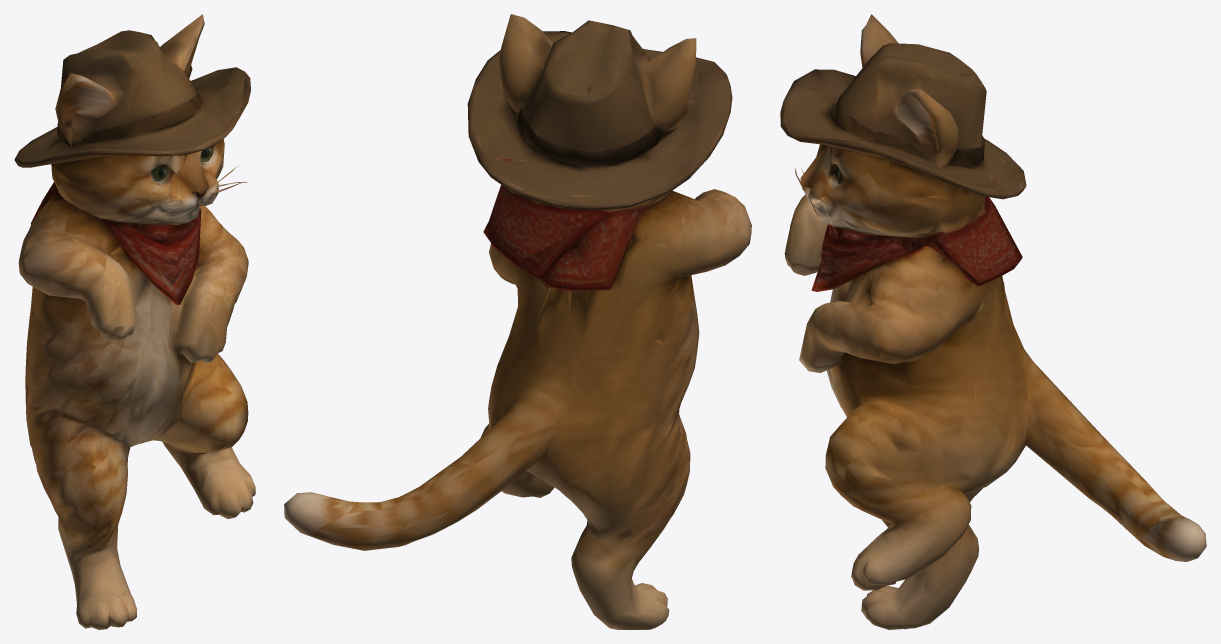
File: demo_phantom_01.glb
3 renders of one model, left to right at view 1: azimuth 30°, elevation 25°; view 2: azimuth 150°, elevation 25°; view 3: azimuth 270°, elevation 25°, orthographic. The views are drawn at different scales.
Visible parts, largest first — view 1: node_0; view 2: node_0; view 3: node_0.
Boxes of the visible parts, box(x1,y1,x2,y2) form: node_0: box(14, 14, 255, 629); node_0: box(284, 14, 751, 629); node_0: box(780, 14, 1206, 629).
Size of the model in its own units: 0.5734 by 1.08 by 0.7056.
1 material, 1 textured.
